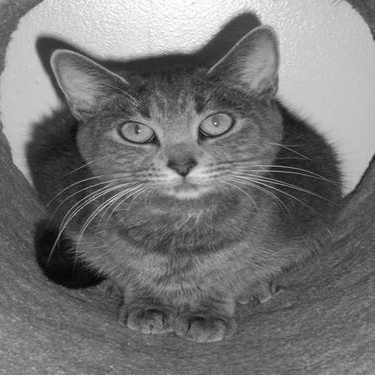cat: (38, 26, 345, 344)
